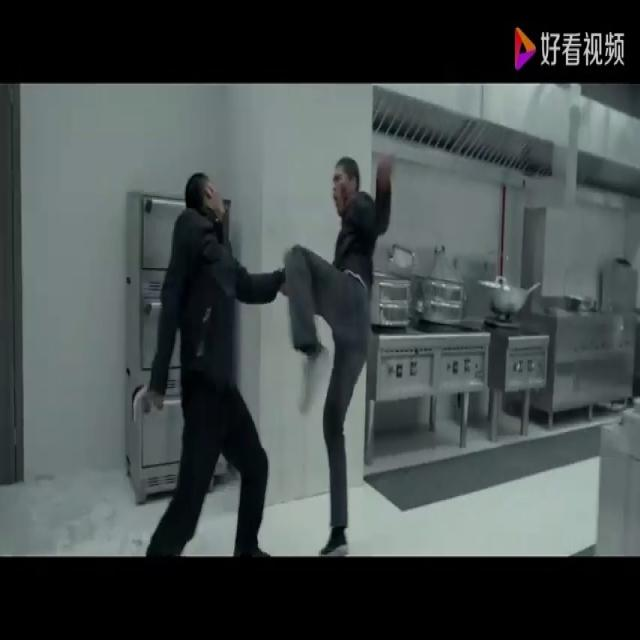fight: (133, 145, 400, 566)
